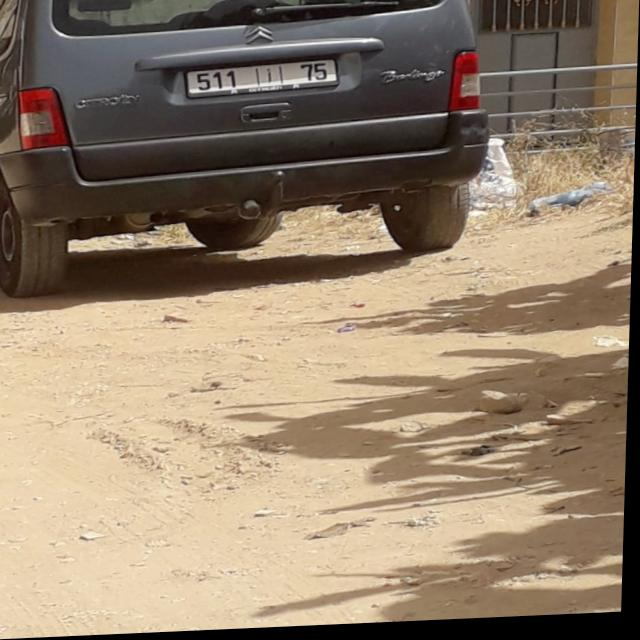License-Plate: (188, 63, 337, 99)
